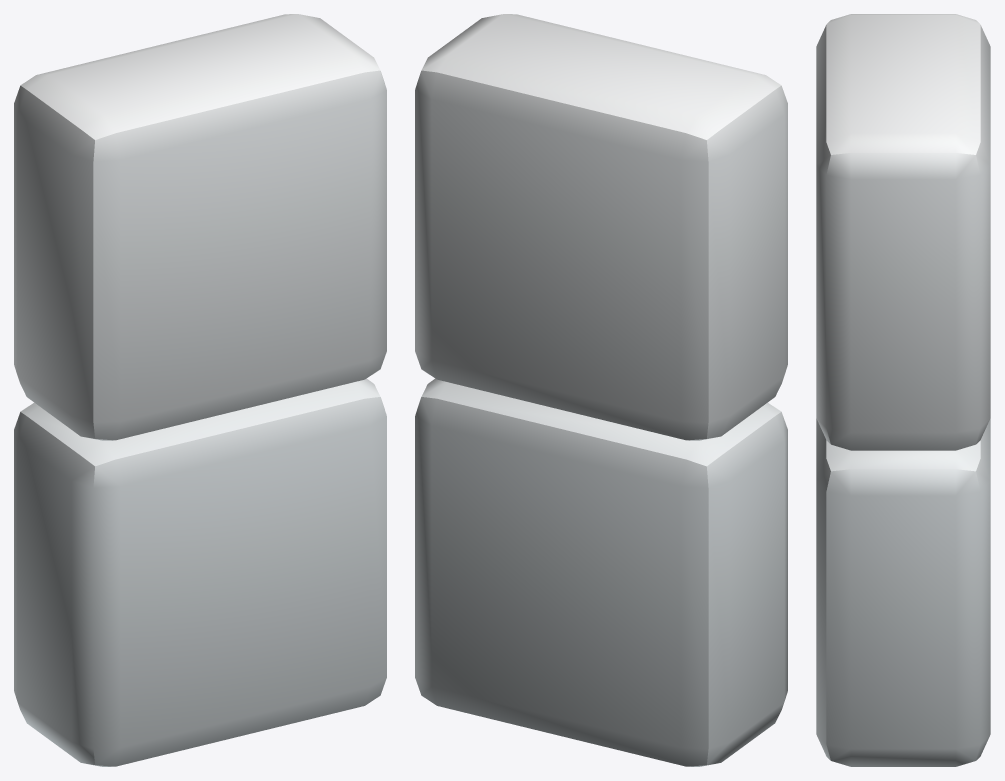
Rendered from barrier_2x1x4.glb.
3 views of the same model, side by side, from view 1: azimuth 30°, elevation 25°; view 2: azimuth 150°, elevation 25°; view 3: azimuth 270°, elevation 25° (orthographic). The views are drawn at different scales.
Visible parts, largest first — view 1: barrier_2x1x4; view 2: barrier_2x1x4; view 3: barrier_2x1x4.
Part boxes in pixels (x1,y1,x2,y2): barrier_2x1x4: (14, 14, 386, 766); barrier_2x1x4: (415, 14, 787, 766); barrier_2x1x4: (816, 14, 990, 766).
Bounding box in the file's own units: 2 × 4 × 1.
Materials: 1 (1 with a texture image).
